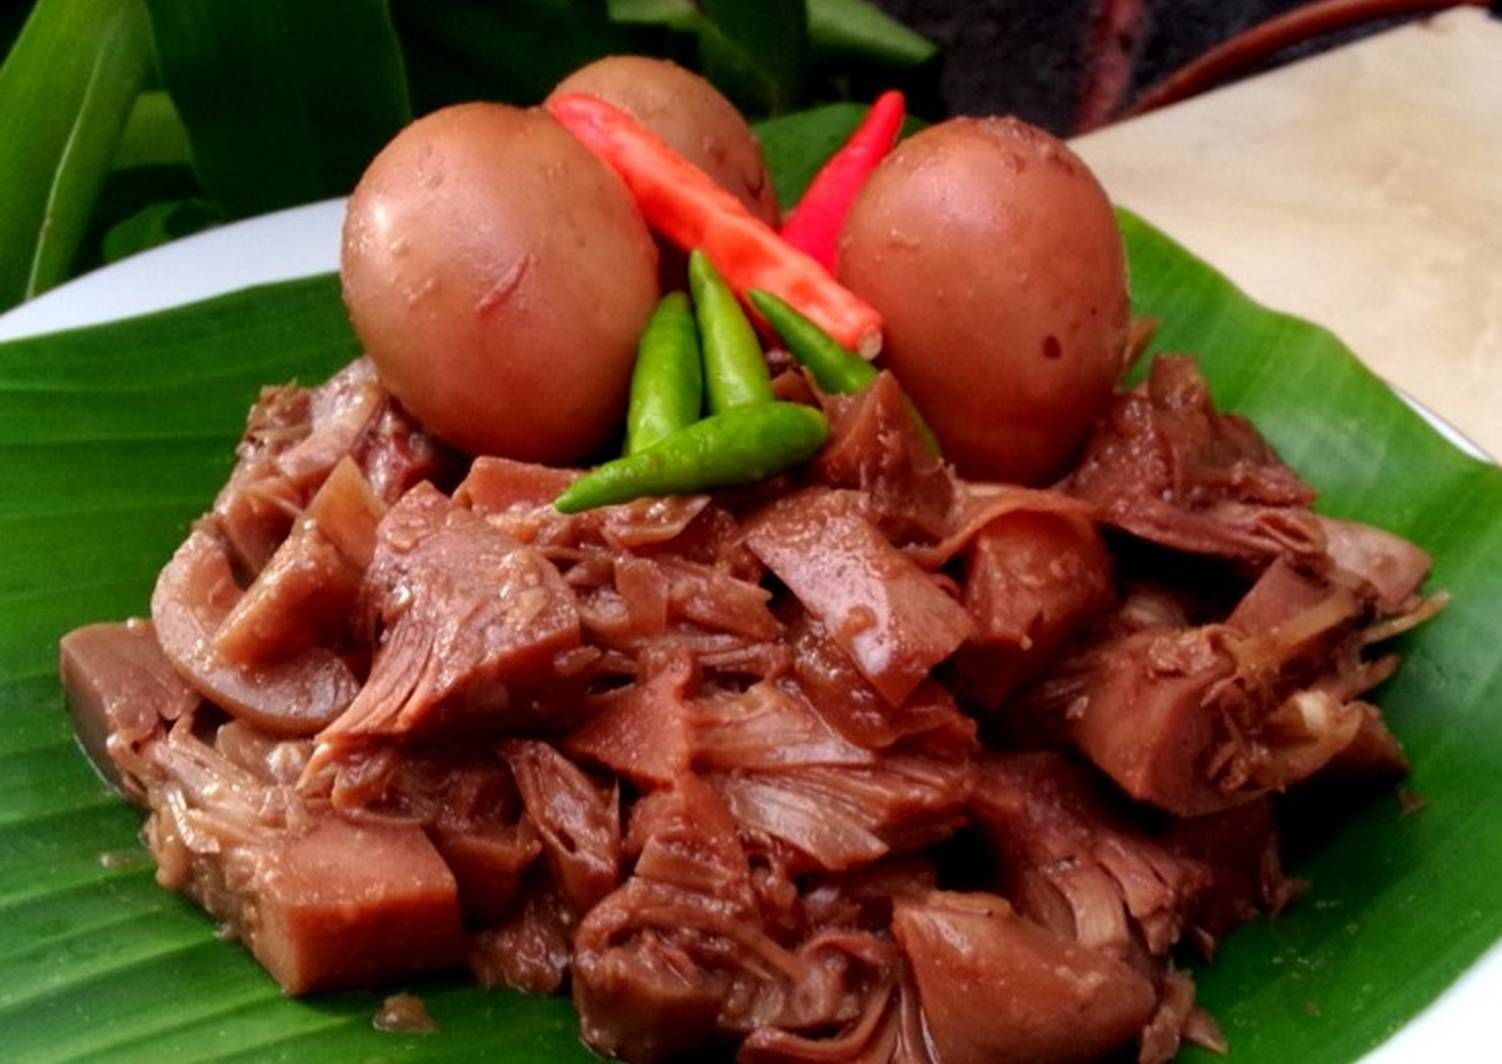gudeg: (79, 77, 1410, 1046)
